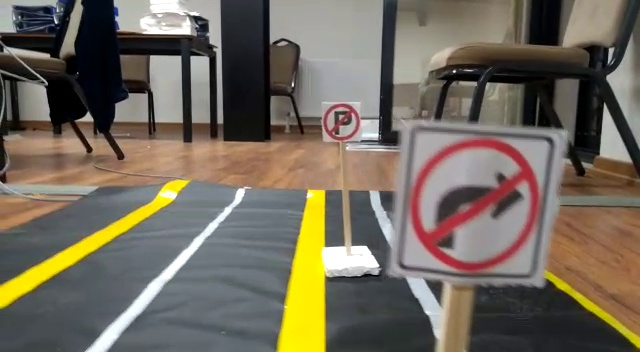park_yapilmaz: (321, 103, 363, 142)
saga_donulmez: (408, 127, 537, 276)
